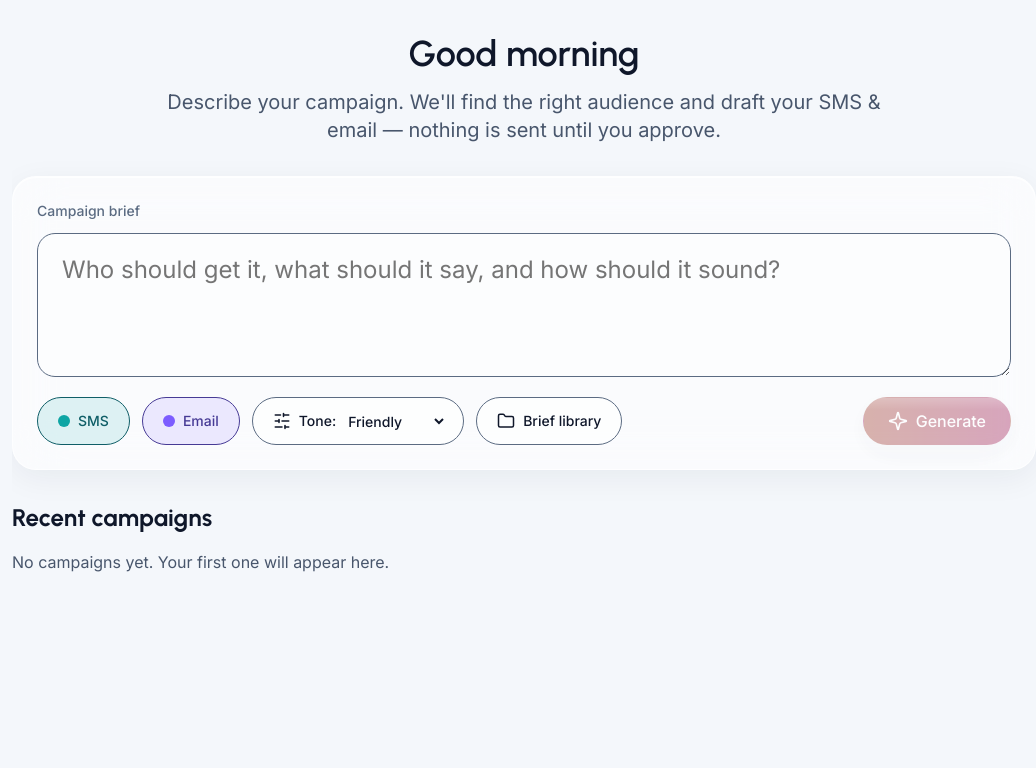
Test case: ComposerView › shows why no audience could be built, and keeps the brief
The width and height of the screenshot is (1036, 768).
Replace the text in the text box labelled "Campaign brief" with "kadın kullanıcılar". click: (524, 305)
box: x1=37 y1=233 x2=1011 y2=377
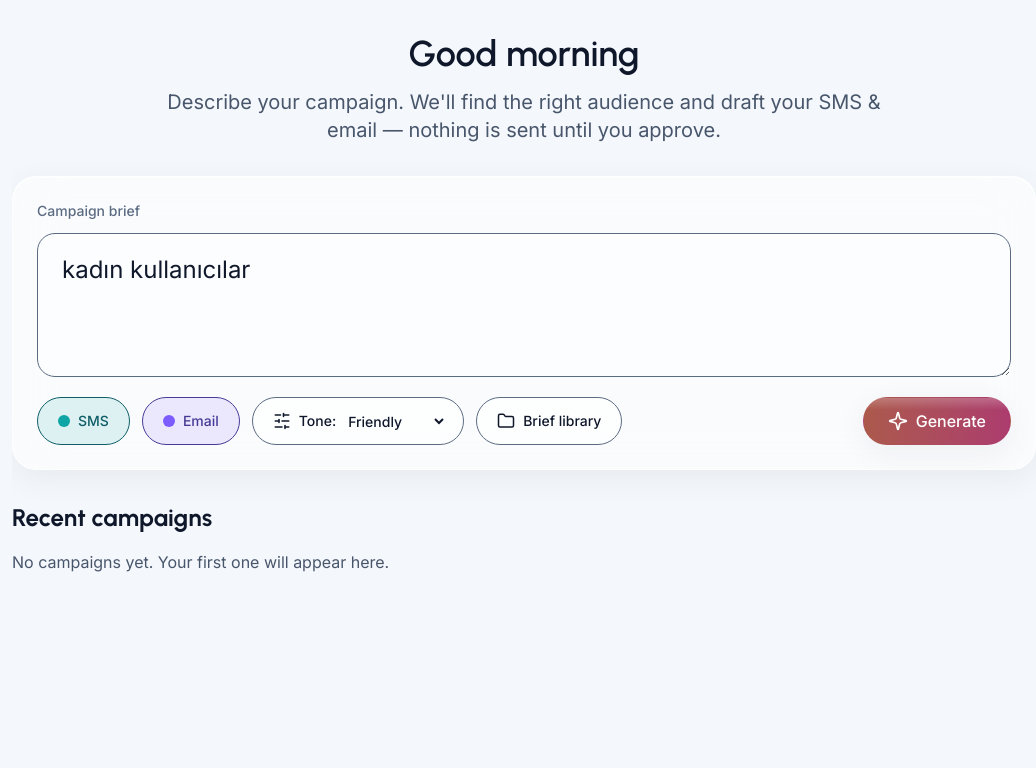
Submit the form, box x1=12 y1=176 x2=1035 y2=470
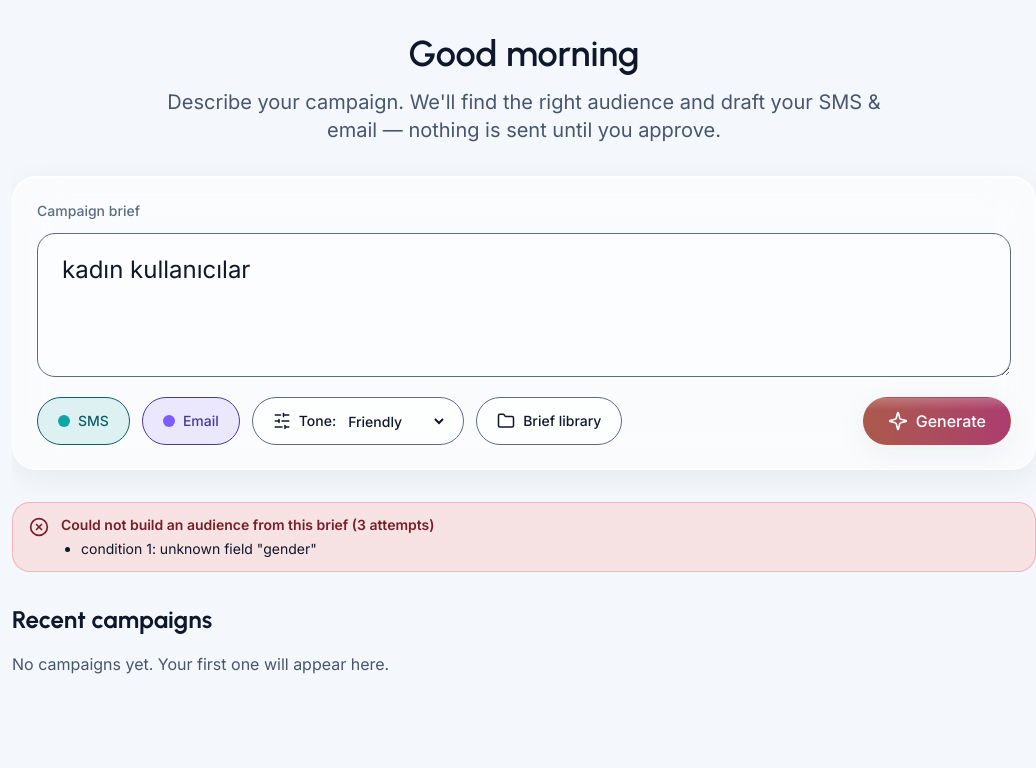
Expected: the message shows "Could not build an audience from this brief (3 attempts)", x1=61 y1=516 x2=434 y2=533
Expected: the message shows "condition 1: unknown field \"gender\"", x1=81 y1=540 x2=317 y2=557
